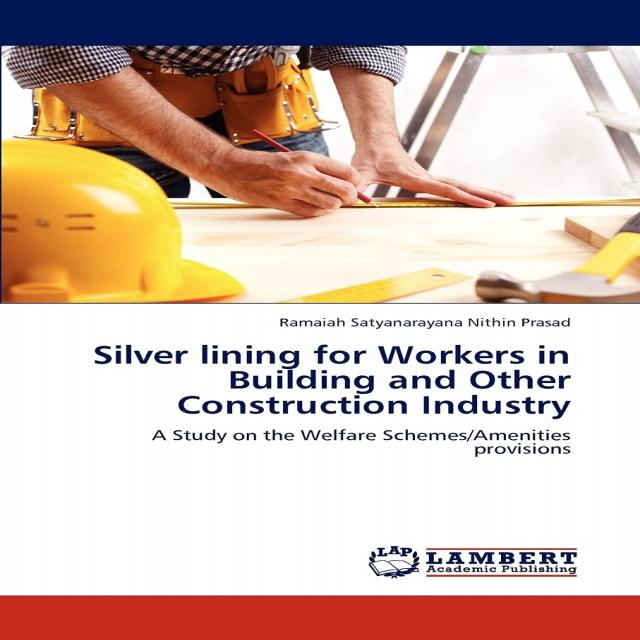Safety-Helmet: (0, 137, 239, 306)
